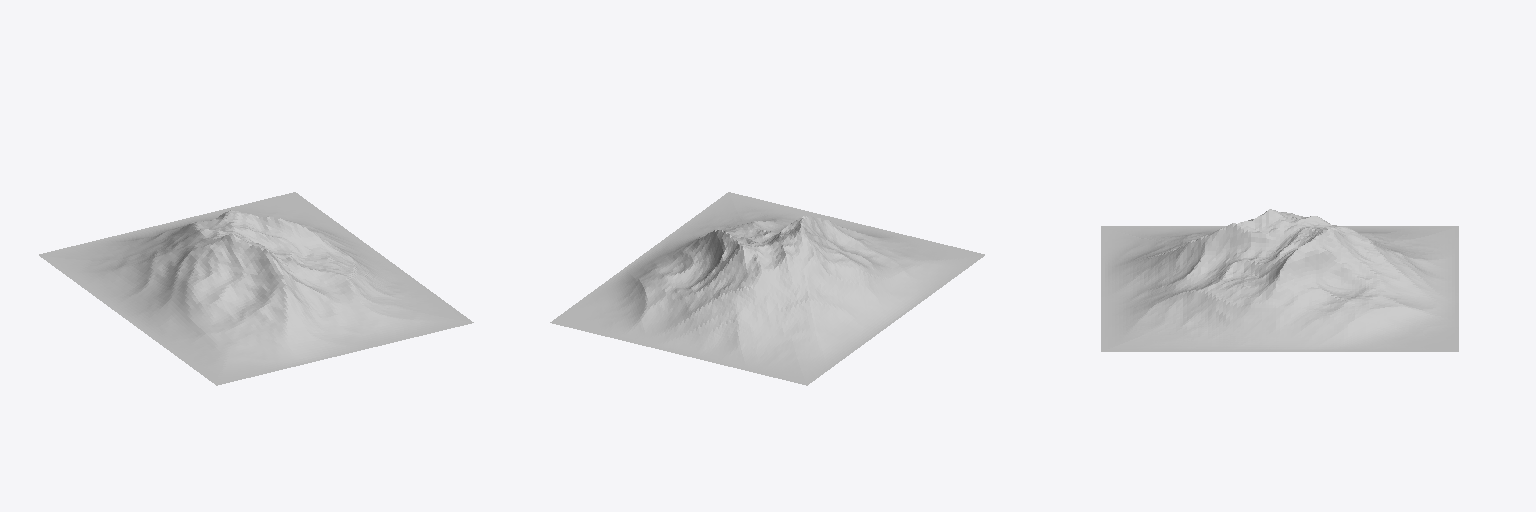
The model's file is lanscopetwo.obj.
The picture shows the model from 3 angles: view 1: azimuth 30°, elevation 25°; view 2: azimuth 150°, elevation 25°; view 3: azimuth 270°, elevation 25°; orthographic projection.
Parts seen in each view (by area): view 1: 地形; view 2: 地形; view 3: 地形.
Boxes of the visible parts, <box> form: 地形: <box>39,192,473,385</box>; 地形: <box>550,192,984,385</box>; 地形: <box>1101,209,1458,351</box>.
Size of the model in its own units: 6000 by 1461 by 7219.